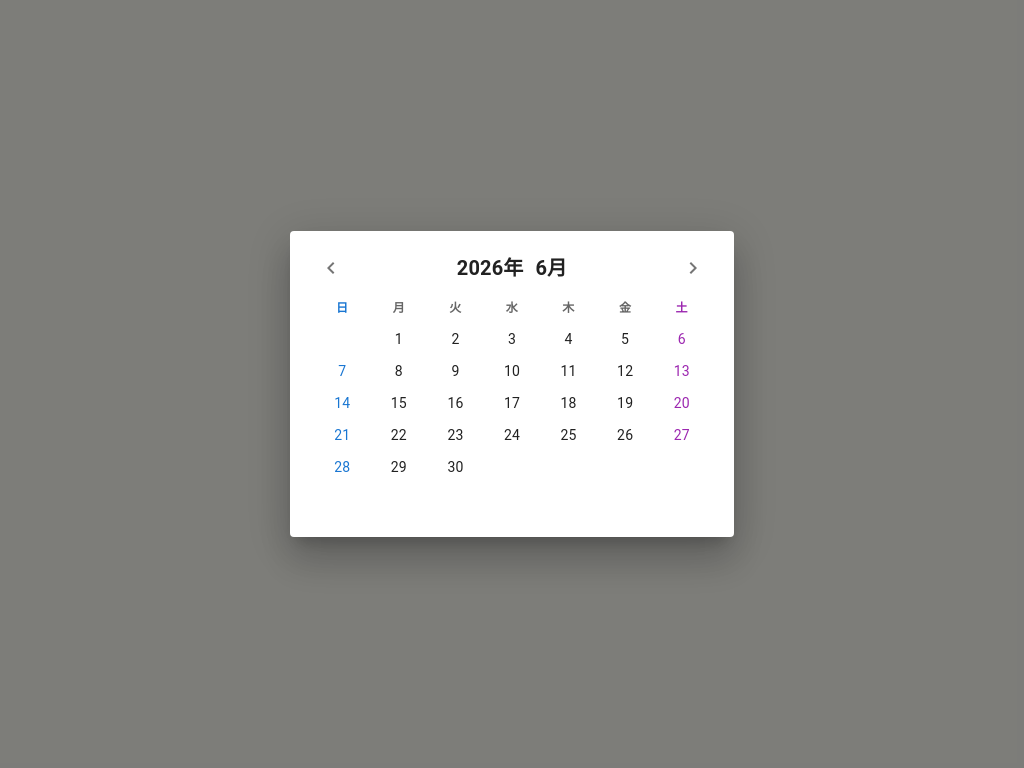
Test: 月移動 › 1月から前月へ移動すると12月・前年になる
Click the heading "6月": (551,268) [535, 256, 567, 280]
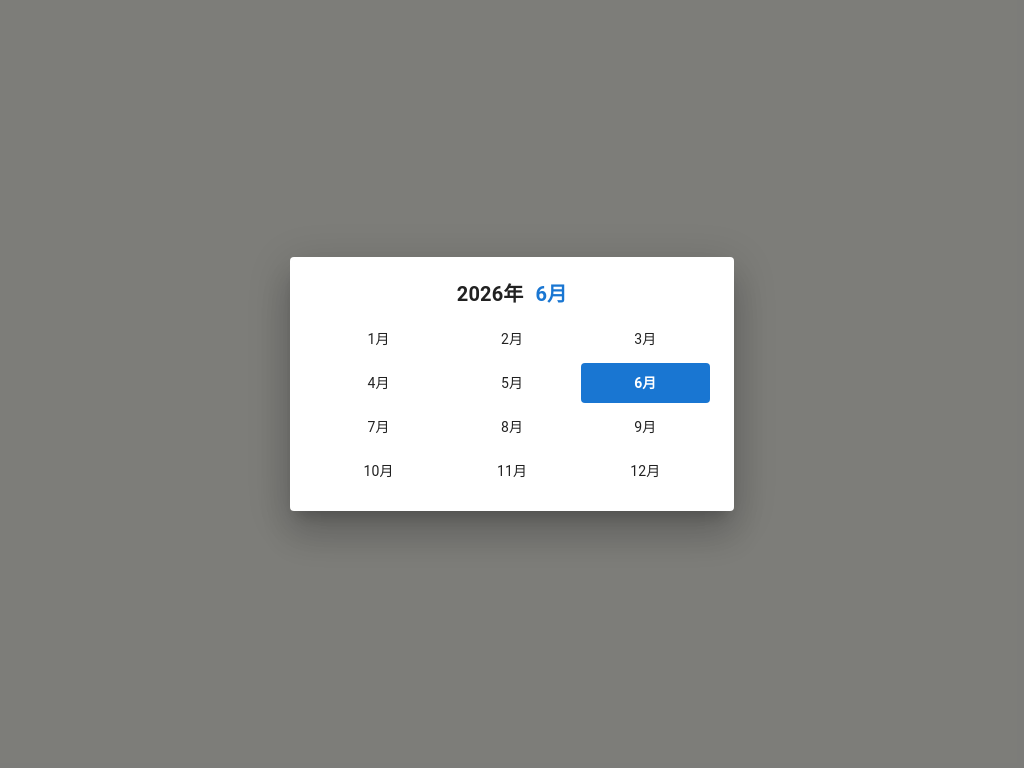
Click the text "1月": (379,339) [368, 329, 390, 349]
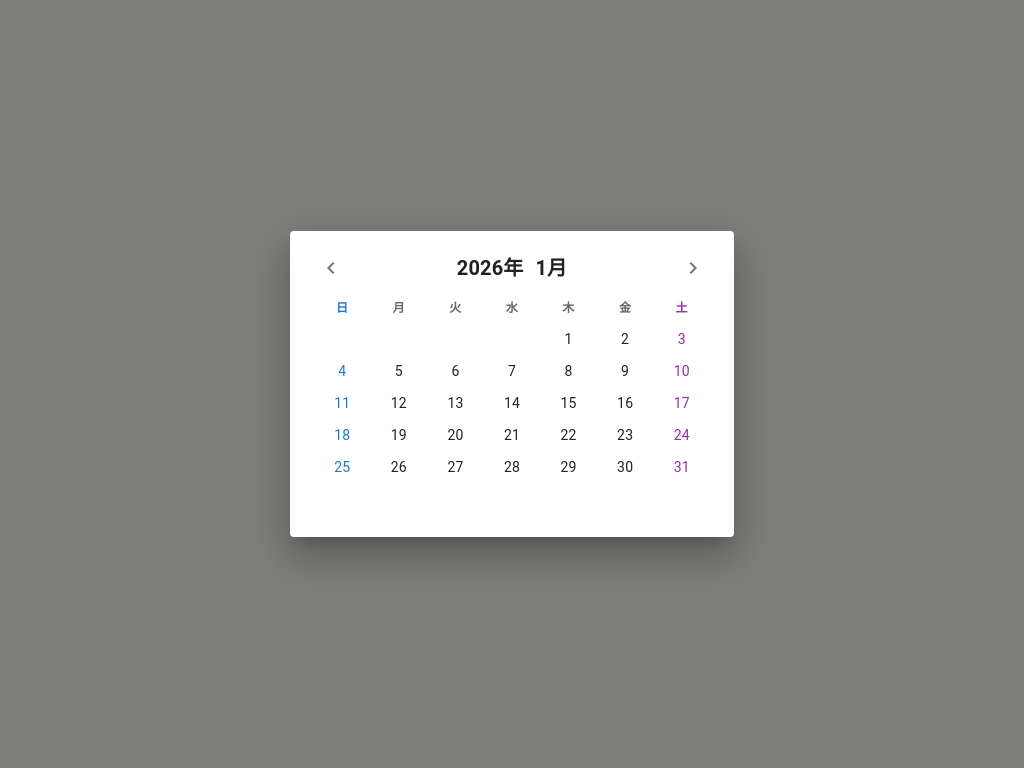
Click the button with test id "ChevronLeftIcon": (331,268) [314, 251, 348, 285]
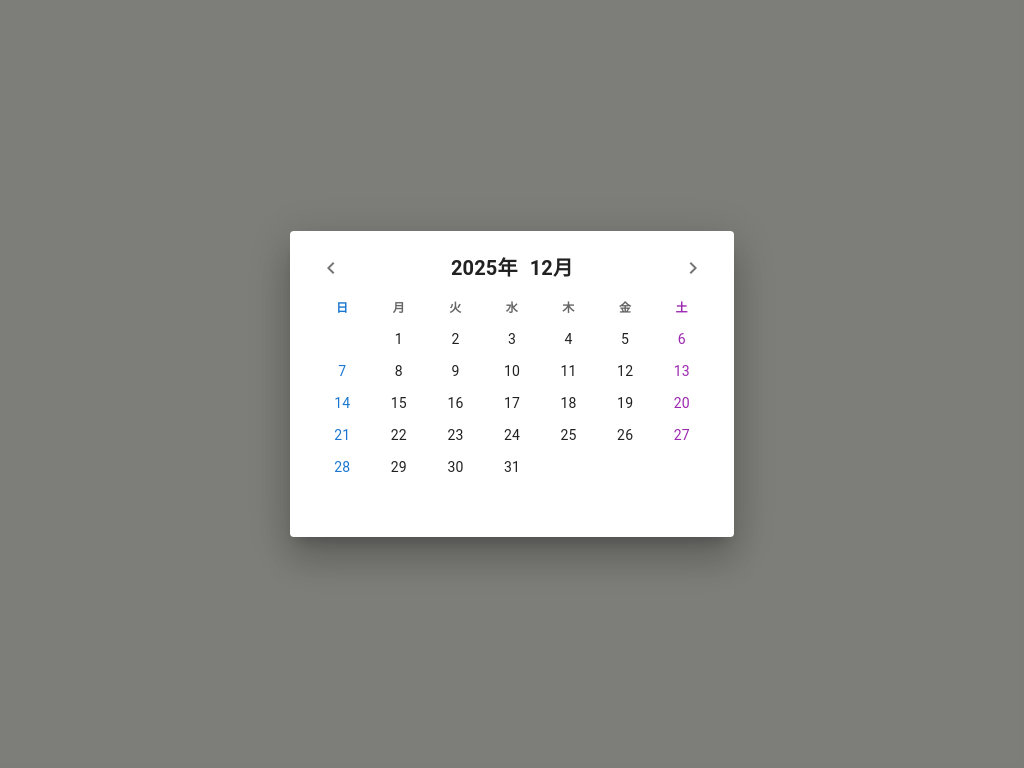
Expected: the heading "12月" is shown, [530, 256, 573, 280]
